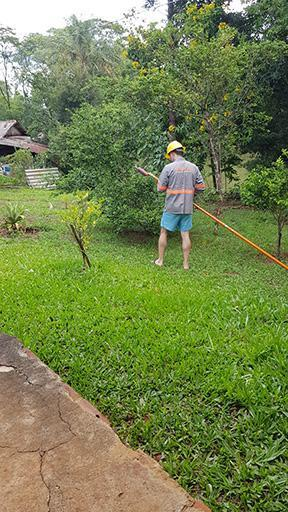helmet: (163, 139, 186, 162)
